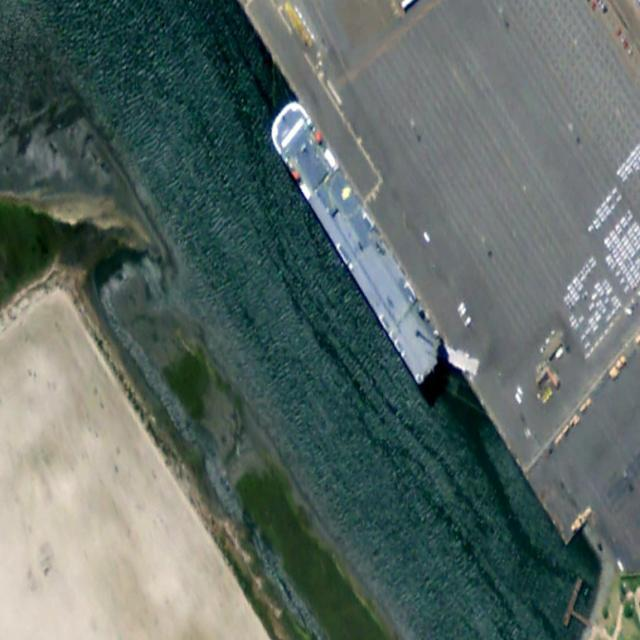RoRo: (265, 92, 450, 385)
